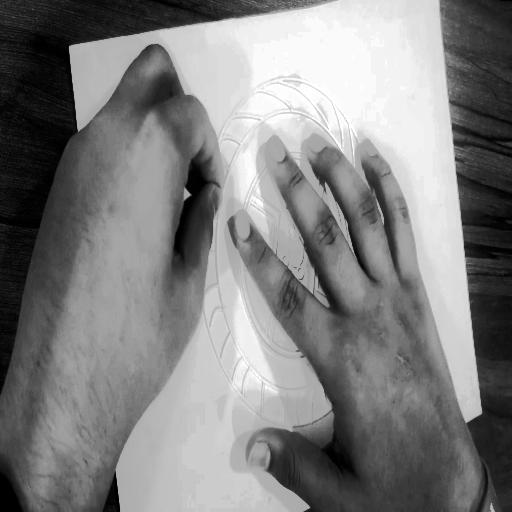bottom_right: (479, 403, 488, 418)
tire: (167, 52, 424, 468)
top_left: (64, 40, 74, 55)
